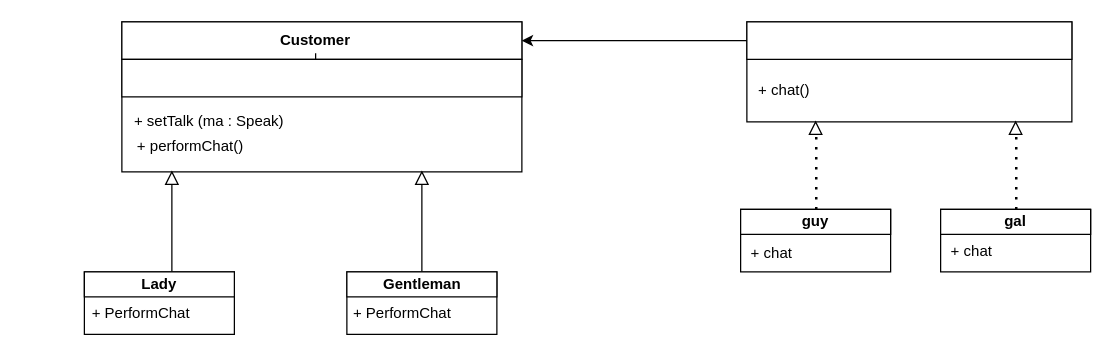
Image size: 1113x356. Some labels were removed from this diagram. The shapes that lost their labels are listed below. From the top down, each one's centre as x and y in pixels, then its label:
At (909,40): "<<Interface>> Speak".
At (321,77): "- Speak: chat()".
